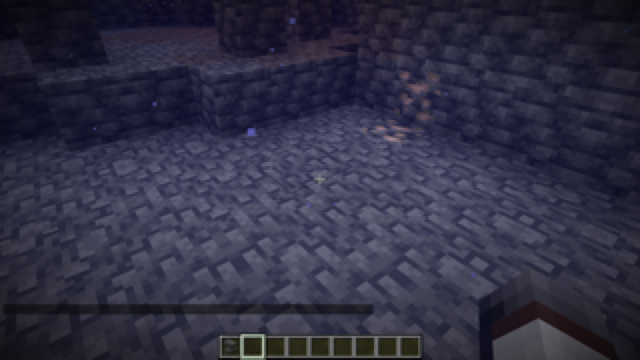iron: (359, 68, 443, 149)
